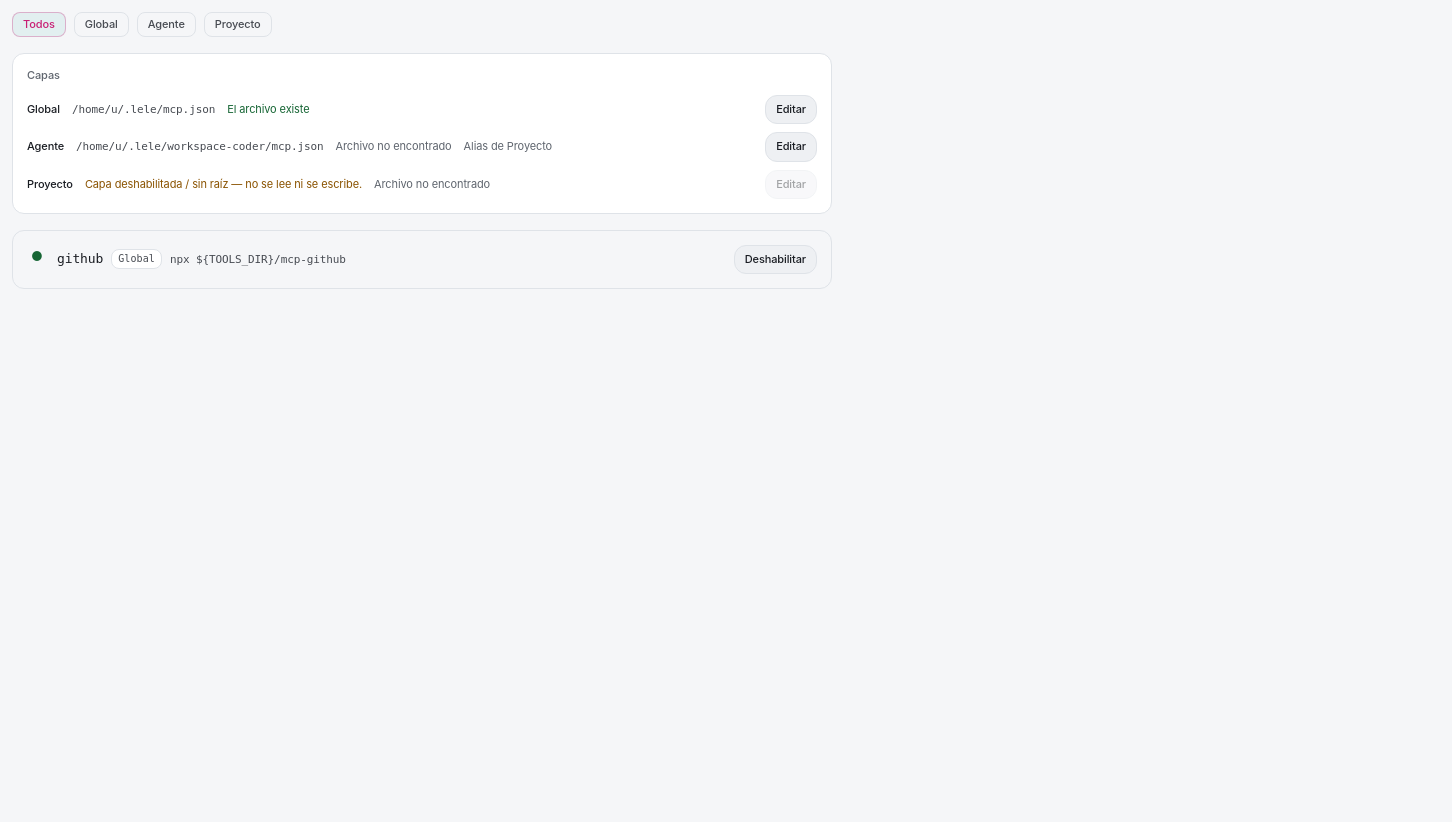
Scenario: AgentMCPSection — raw editor: open & pre-fill › opens on the layer row, fetches the raw route and prefills literal bytes
What coordinates should you click on to do the following:
click the button "Editar" in the row of "/home/u/.lele/mcp.json"
I would click on:
 (791, 110)
Its box is [765, 95, 817, 124].
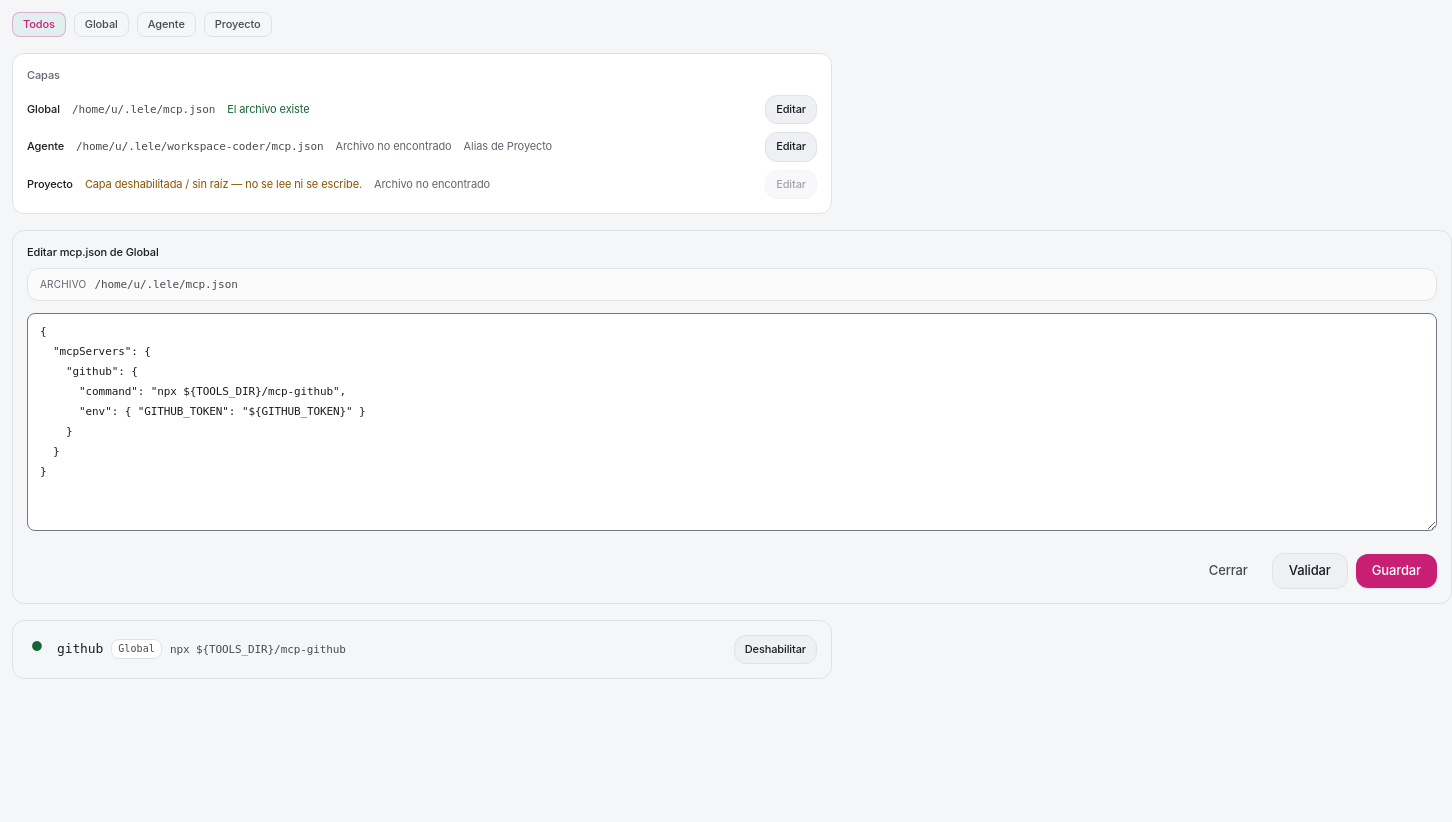
Check: the text "/home/u/.lele/mcp.json" below "Editar mcp.json de Global" is shown, box [94, 278, 238, 291]
